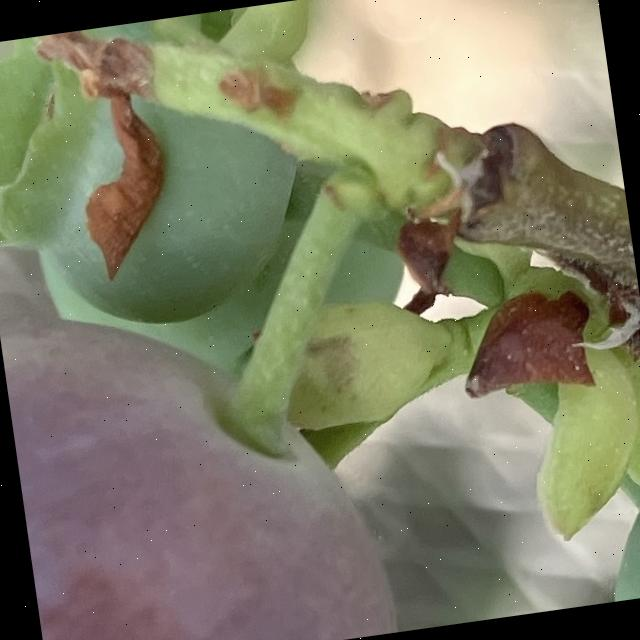Blueberries: (0, 274, 401, 640)
